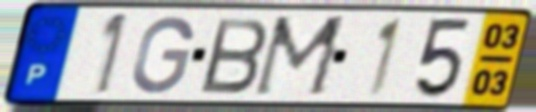1: (366, 14, 412, 101), (94, 10, 133, 99)
5: (409, 16, 478, 101)
B: (197, 16, 272, 96)
G: (128, 14, 198, 97)
M: (248, 13, 352, 100)
